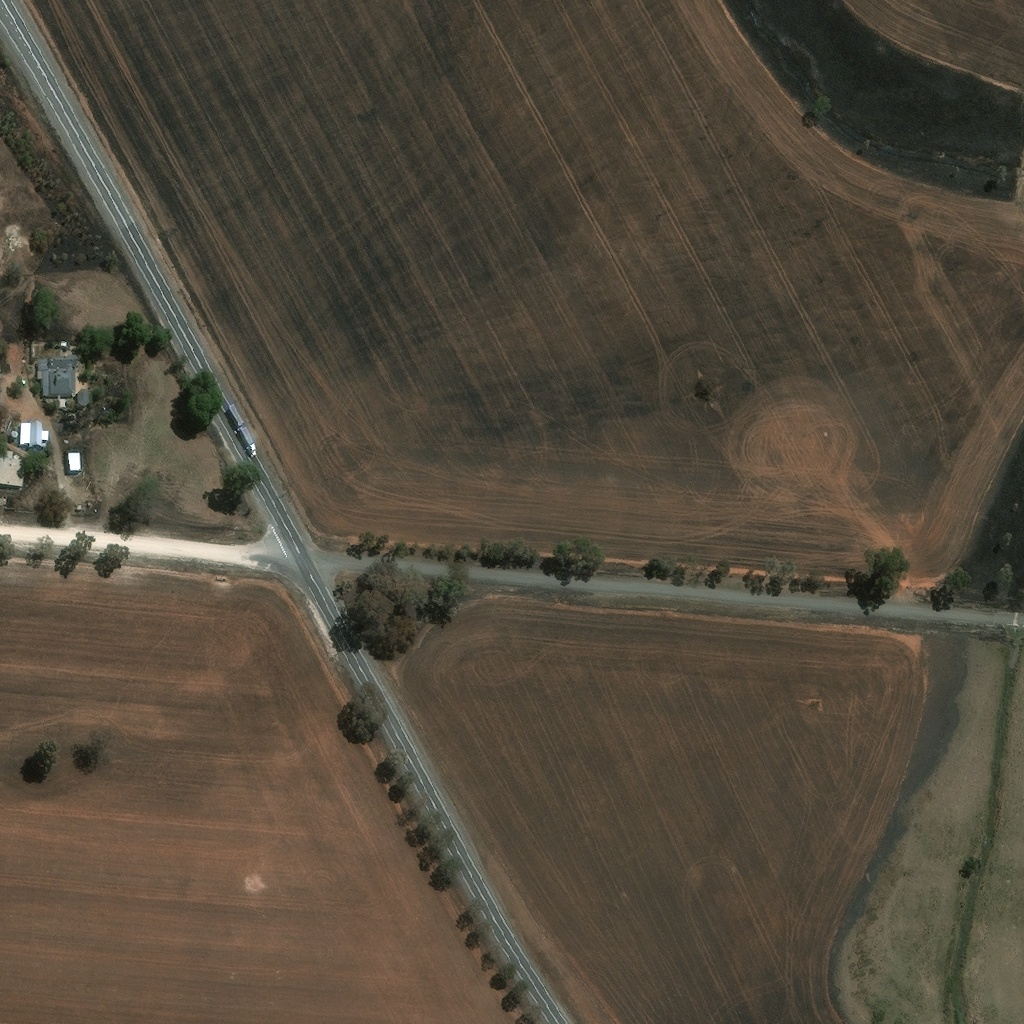0 no-damage: (37, 355, 74, 397), (0, 448, 22, 486), (19, 421, 49, 447), (66, 450, 80, 471), (76, 392, 89, 405), (0, 497, 8, 506), (75, 504, 82, 511), (10, 431, 18, 437)
